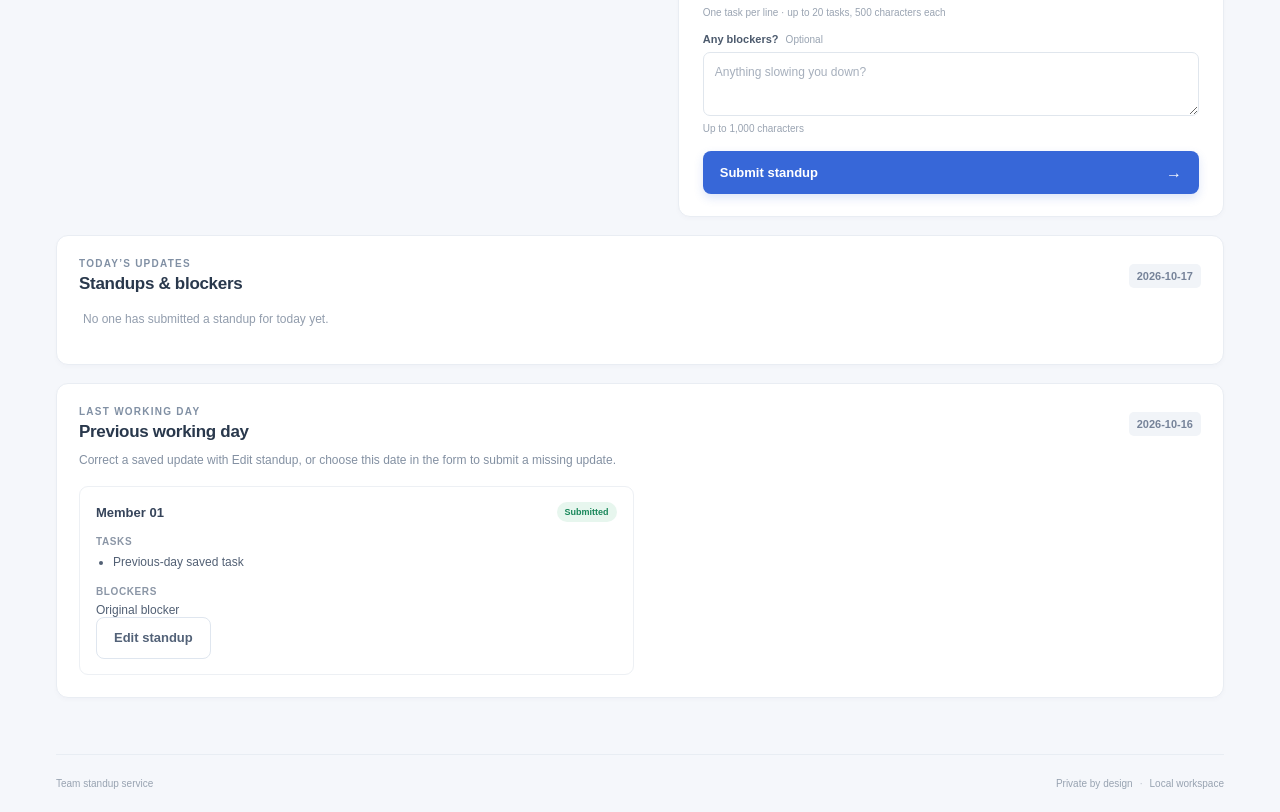
standup UI › returns from Edit to a blank Add form using Add standup
(page scrolled)
Click the button with aria-label "Edit Member 01 standup for 2026-10-16".
click(153, 638)  # box [96,617,211,659]
(page scrolled)
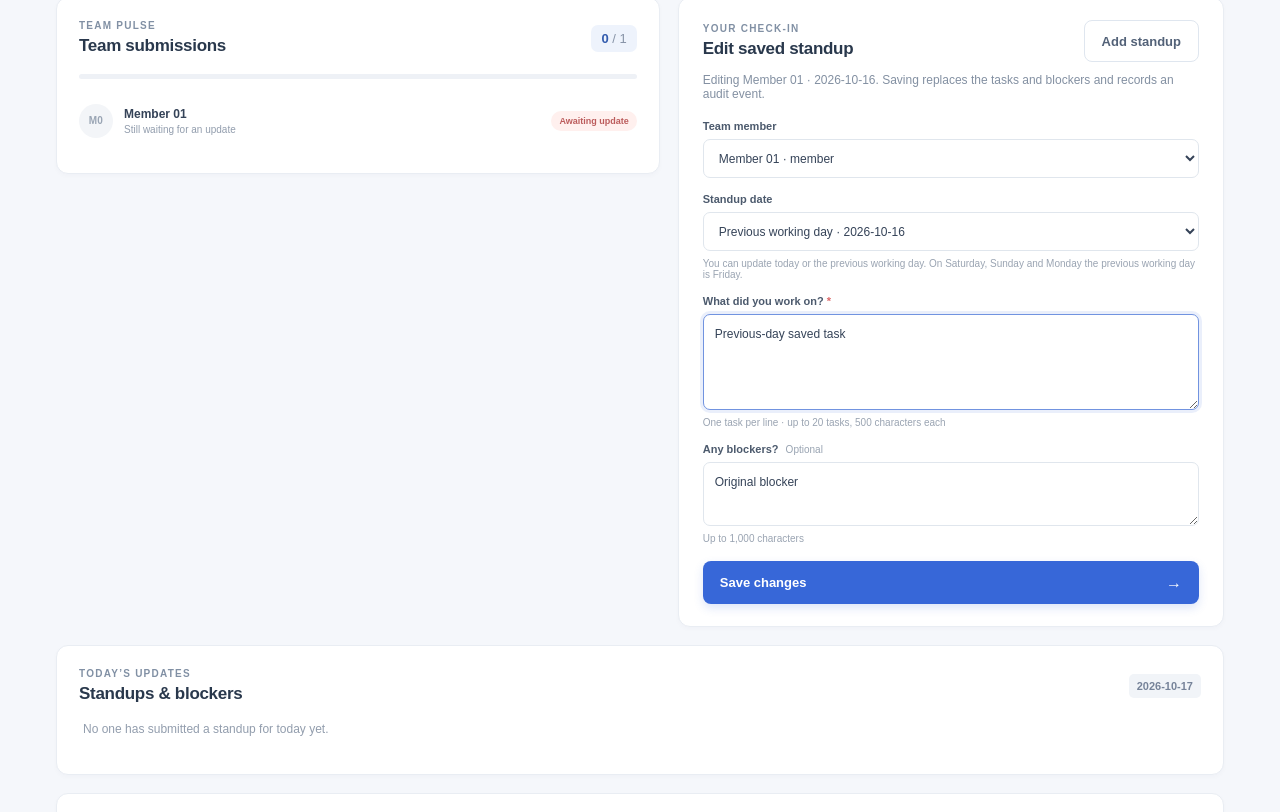
Replace the text in the text box labelled "What did you work on? *" with "Unsaved correction" at point(951, 362), box [703,314,1199,410]
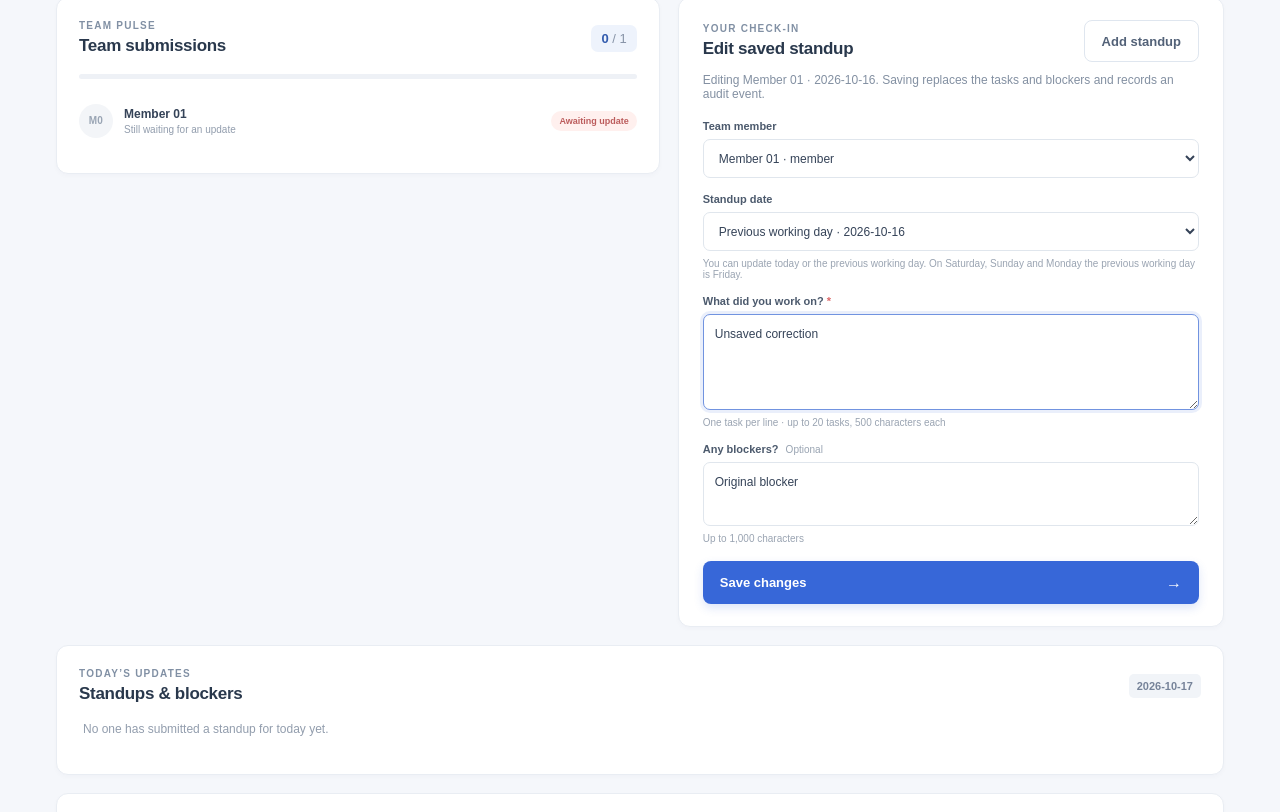
Click the button "Add standup".
click(1141, 41)  # box [1084,20,1199,62]
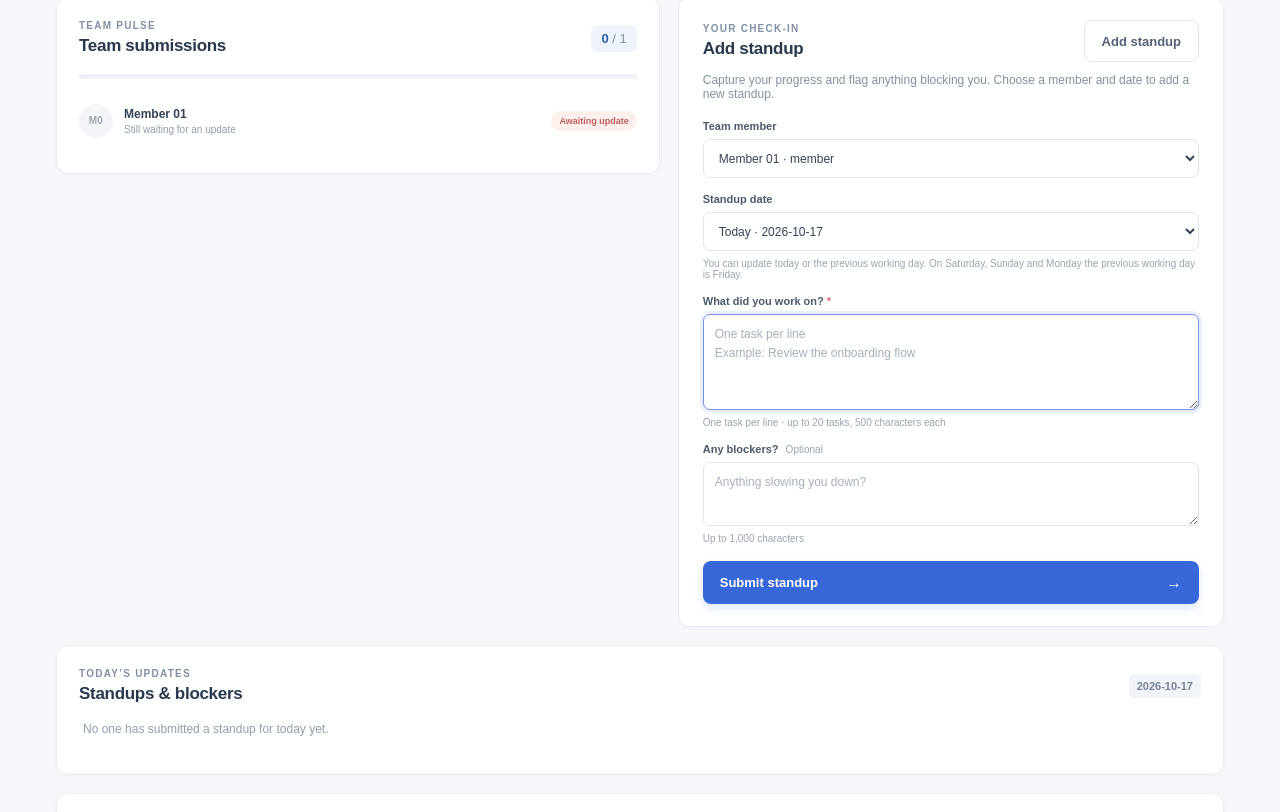
Expected: the heading "Add standup" is shown, [703,39,803,59]
Expected: the dropdown labelled "Standup date" shows "Today · 2026-10-17", [703,212,1199,251]
Expected: the text box labelled "What did you work on? *" is empty, [703,314,1199,410]
